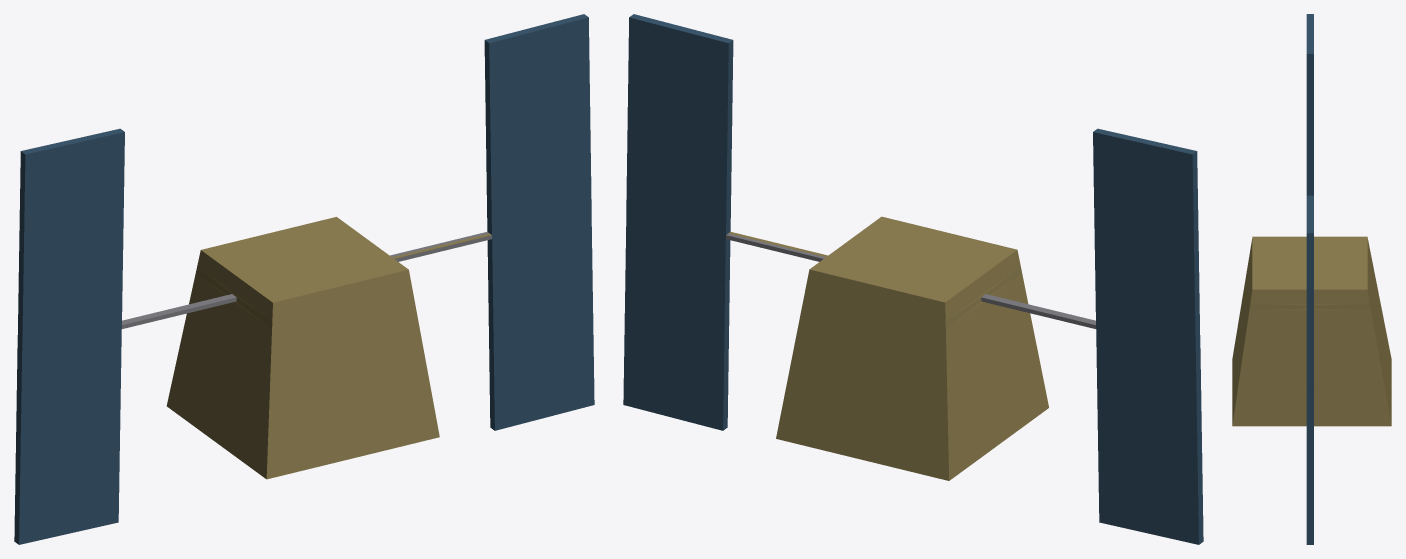
File: oneWeb.glb
3 views of the same model, side by side, from view 1: azimuth 30°, elevation 25°; view 2: azimuth 150°, elevation 25°; view 3: azimuth 270°, elevation 25° (orthographic). The views are drawn at different scales.
Parts seen in each view (by area): view 1: Cube; view 2: Cube; view 3: Cube.
Boxes of the visible parts, x1,y1,x2,y2 form: Cube: (14,14,594,544); Cube: (623,14,1203,544); Cube: (1232,14,1391,544).
Size of the model in its own units: 6.64 by 4.31 by 2.
